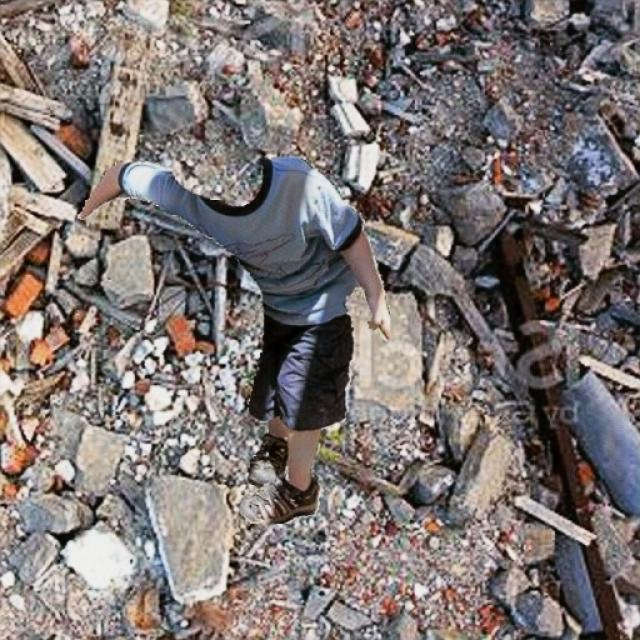Person in Rubble: (76, 157, 389, 522)
